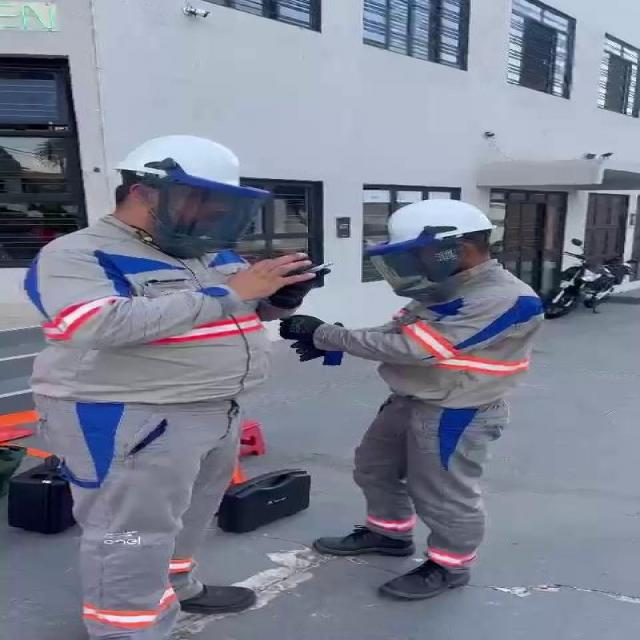Helmet: (108, 134, 271, 250)
